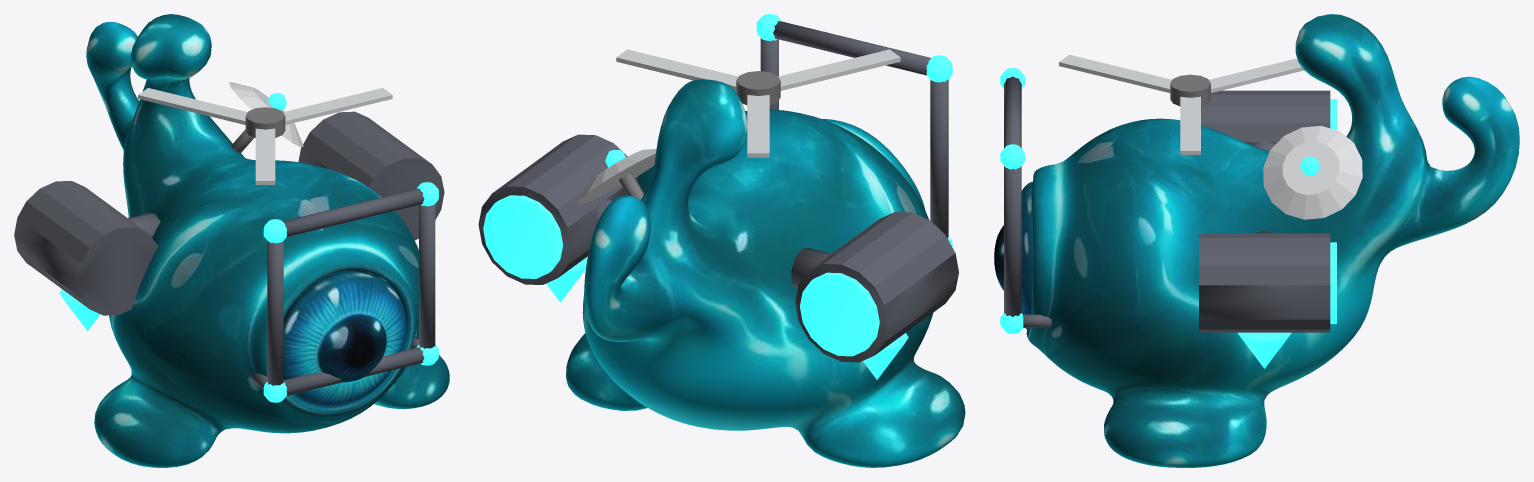
Rendered from Monster_VEX_Skyrig.glb.
3 views of the same model, side by side, from view 1: azimuth 30°, elevation 25°; view 2: azimuth 150°, elevation 25°; view 3: azimuth 270°, elevation 25° (orthographic). The views are drawn at different scales.
Visible parts, largest first — view 1: Monster_VEX_Skyrig, Monster_VEX_Skyrig_Evolution; view 2: Monster_VEX_Skyrig, Monster_VEX_Skyrig_Evolution; view 3: Monster_VEX_Skyrig, Monster_VEX_Skyrig_Evolution.
Part boxes in pixels (x1,y1,x2,y2): Monster_VEX_Skyrig: [86, 14, 449, 467]; Monster_VEX_Skyrig_Evolution: [14, 82, 444, 402]; Monster_VEX_Skyrig: [566, 79, 965, 467]; Monster_VEX_Skyrig_Evolution: [478, 14, 958, 379]; Monster_VEX_Skyrig: [994, 14, 1519, 467]; Monster_VEX_Skyrig_Evolution: [1000, 54, 1362, 368].
Bounding box in the file's own units: 1.87 × 1.71 × 2.25.
5 materials, 1 textured.
